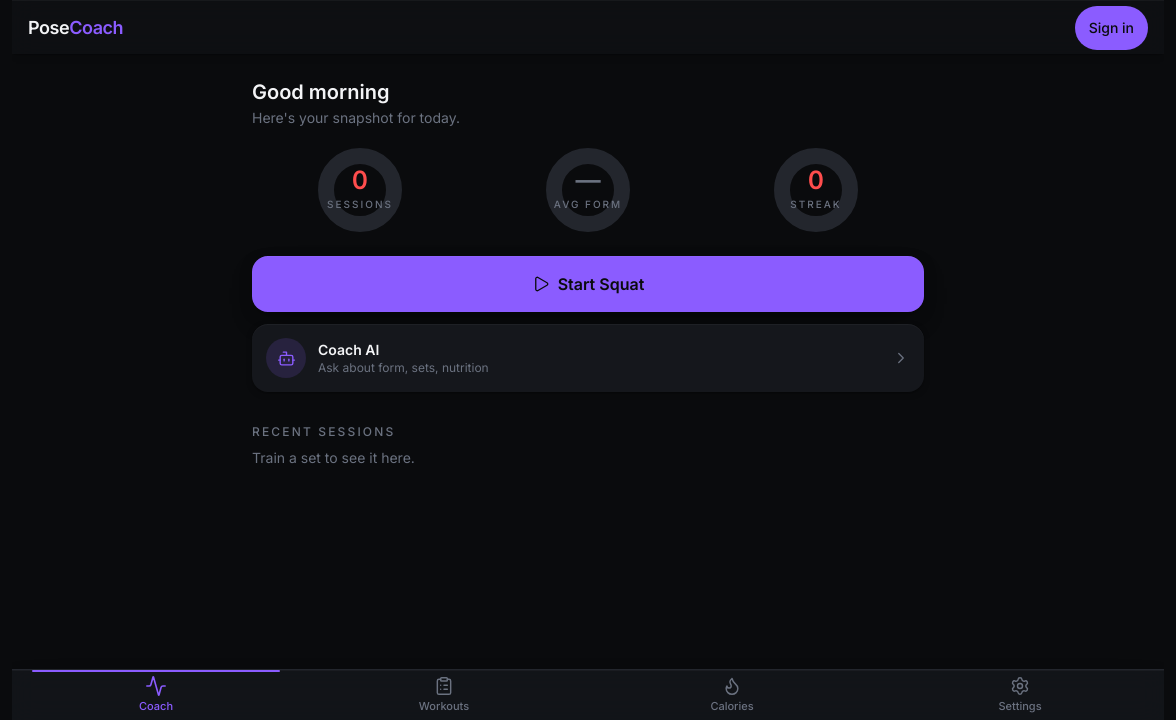
Test case: App (P23 navigation shell) › switches to the Workouts tab, swapping Coach for the placeholder and back
Expected: the element with test id "home-view" is shown, [252, 80, 924, 466]
Step 1. Click the tab with test id "tab-workouts" → (444, 695), box [300, 670, 588, 719]
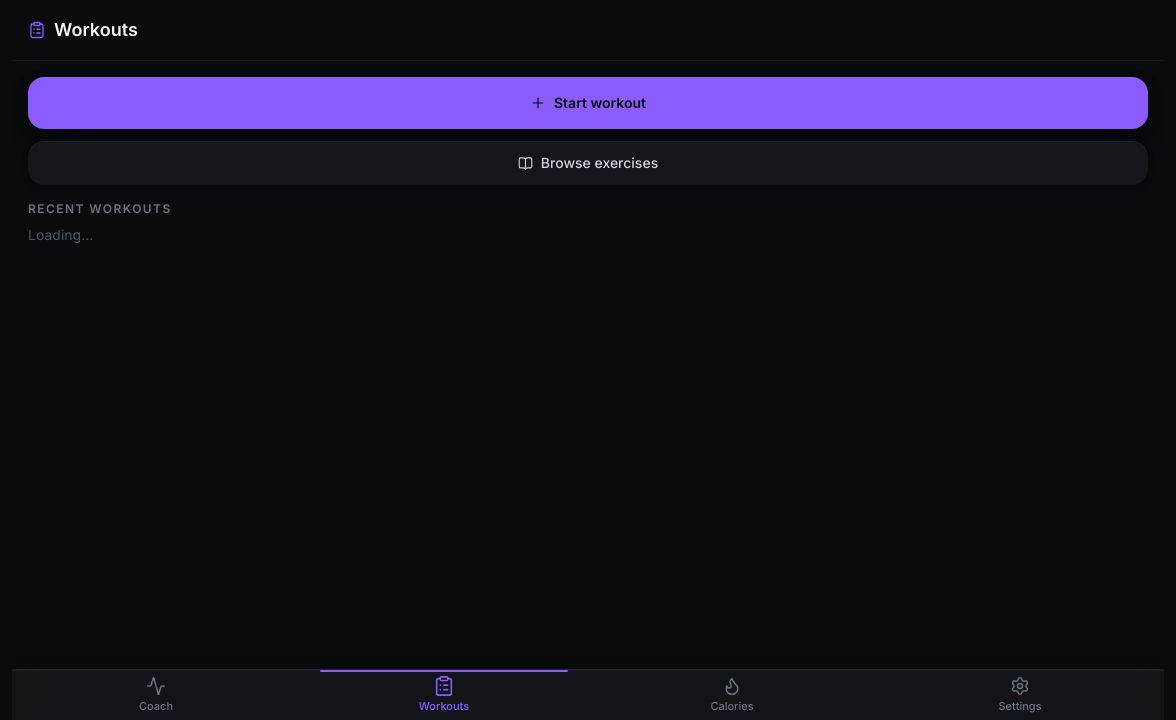
Now the element with test id "home-view" is gone
Now the element with test id "workout-panel" is shown, box [12, 0, 1164, 243]
Note: Returning to Coach restores the unchanged Home experience.
Step 2. Click the tab with test id "tab-coach" → (156, 695), box [12, 670, 300, 719]
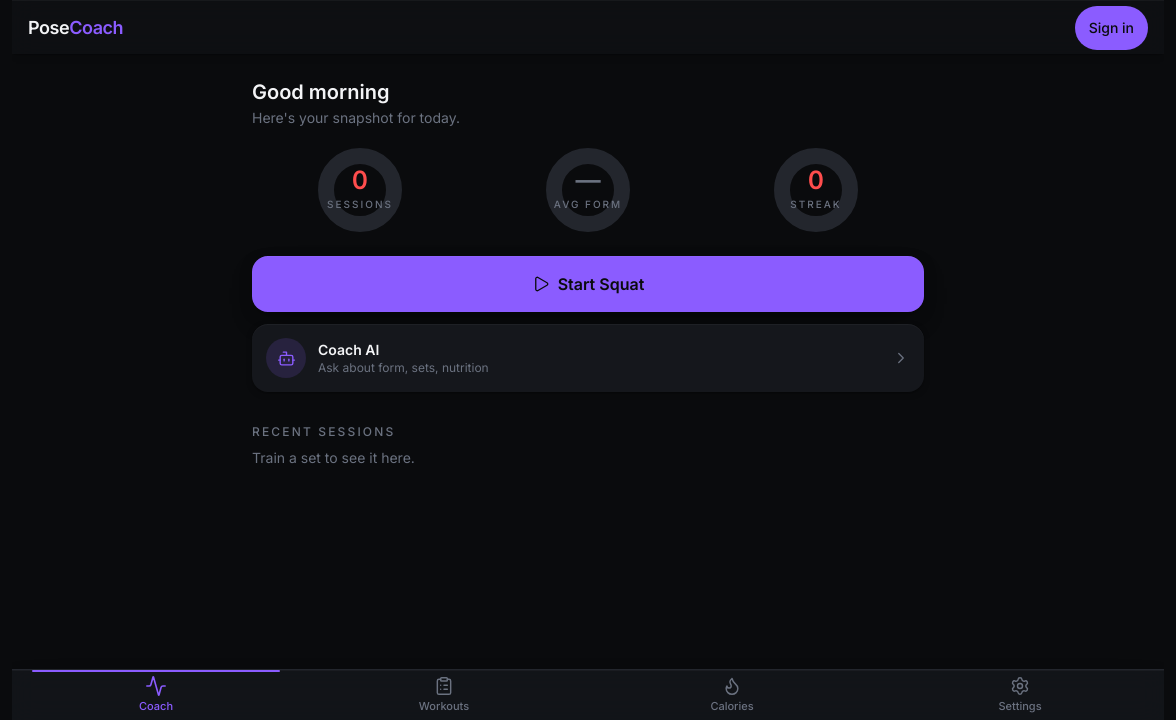
Now the element with test id "home-view" is shown, box [252, 80, 924, 466]
